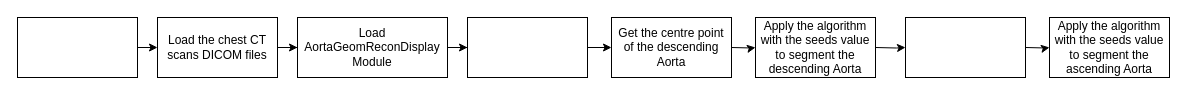
The diagram is 1187 pixels wide and 95 high, and some of its shapes have lost their labels. The shapes that lost their labels are listed below. From the top down, each one's box as (x1, y1, x2, y2) in pixels, then its label:
(16, 16, 138, 78): Received new patient chest CT scans, open 3D Slicer
(466, 16, 588, 78): Crop a rectangular volume of interest containing the Aorta and other tissues
(904, 16, 1026, 78): Get the centre point of the ascending Aorta
